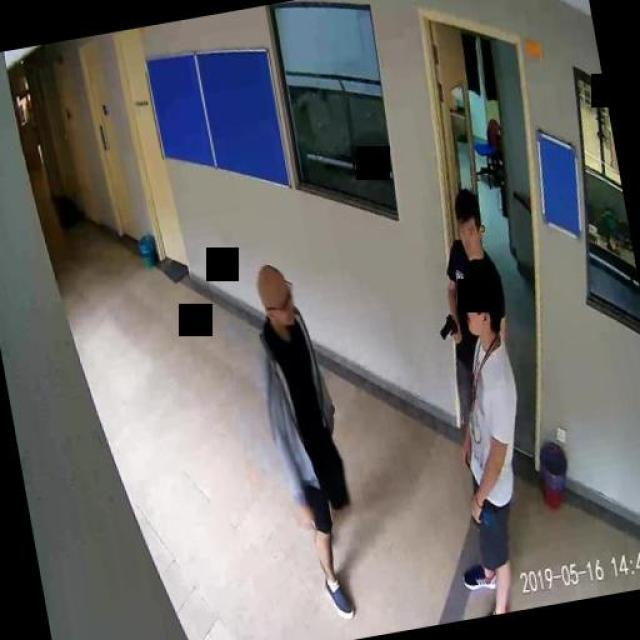gun: (436, 311, 460, 344)
